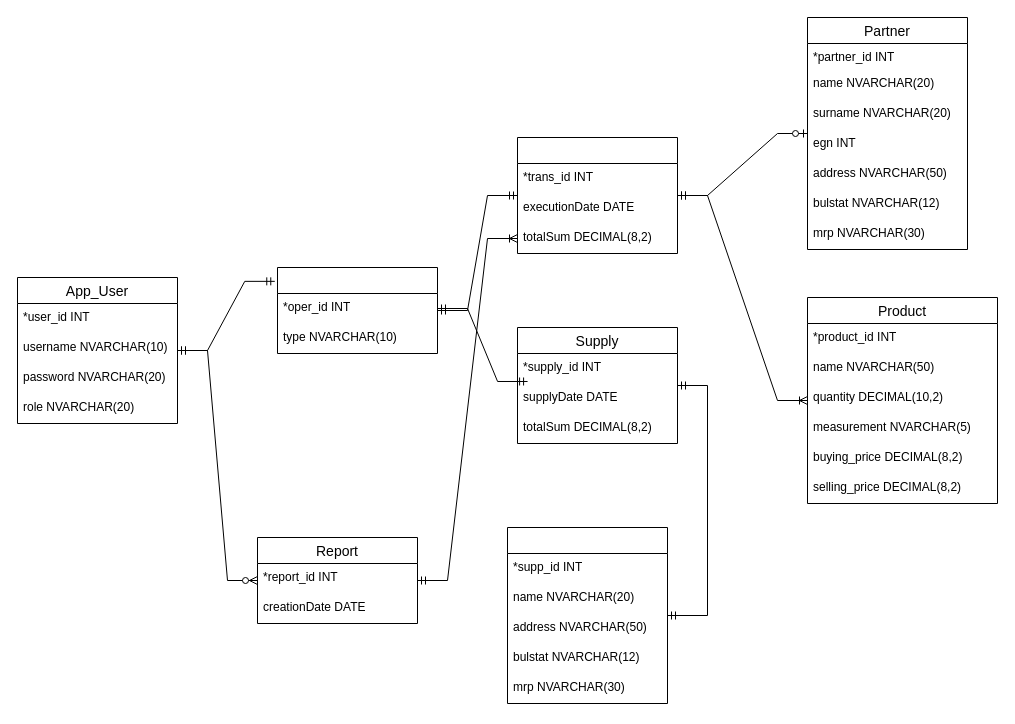
Some shapes in this 1015 by 724 pixel diagram are drawn without their labels. The shapes that lost their labels are listed below. From the top down, each one's box as (x1, y1, x2, y2) in pixels, then its label:
(516, 136, 678, 254): Transaction
(276, 266, 438, 354): Operation
(506, 526, 668, 704): Supplier
